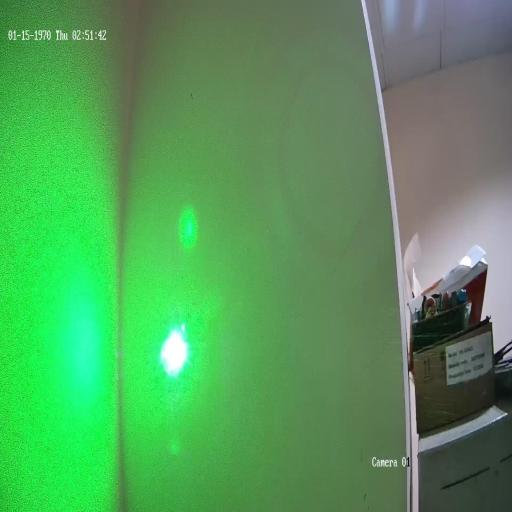laser: (154, 304, 196, 389)
